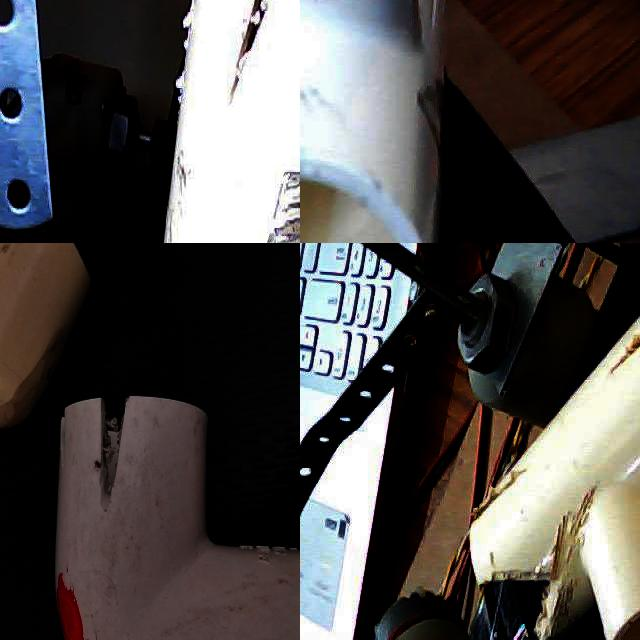Defective: (300, 91, 419, 243), (250, 72, 300, 243), (489, 566, 596, 640), (231, 0, 300, 113), (541, 478, 609, 582), (607, 303, 640, 397), (487, 478, 524, 550), (145, 358, 179, 431)
L Joint: (57, 351, 232, 640)
T Joint: (466, 312, 640, 640), (0, 243, 136, 295)
